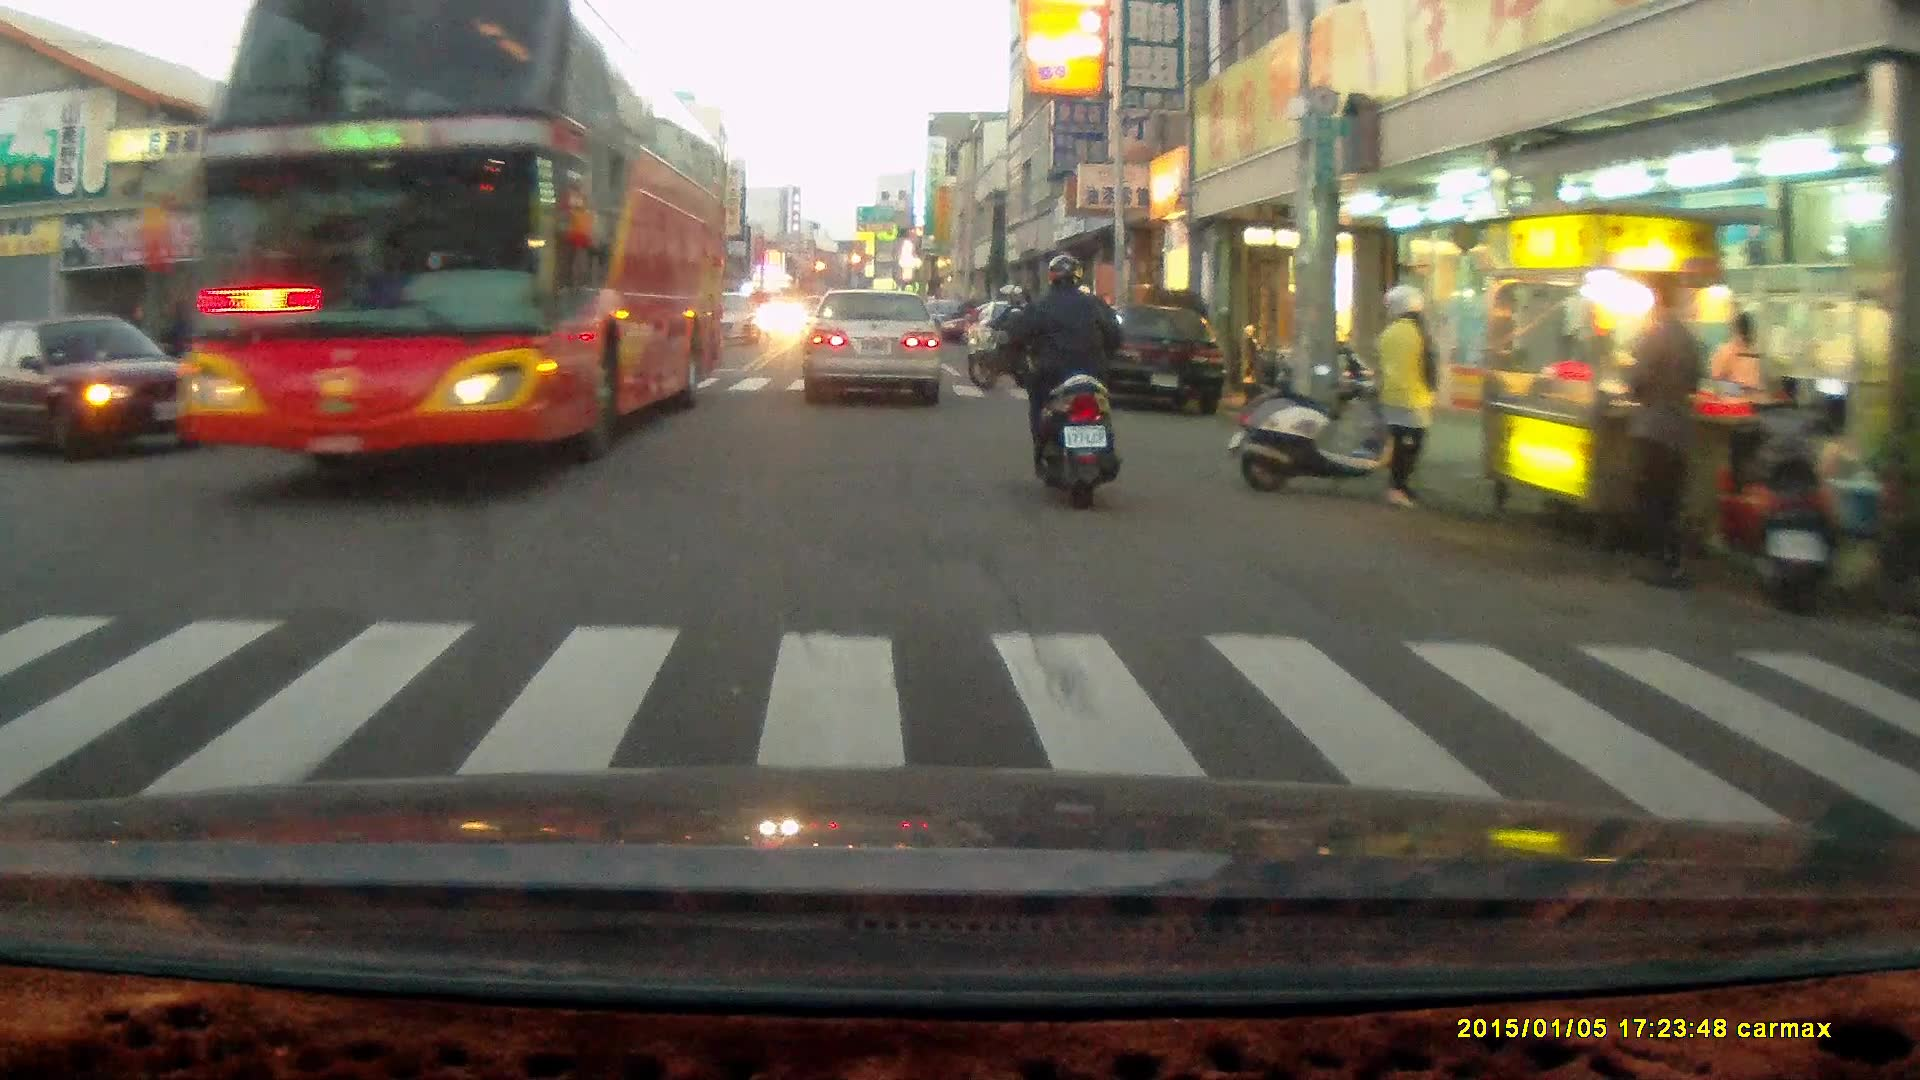pedestrian: (1615, 278, 1707, 592), (1370, 285, 1443, 514), (1714, 310, 1773, 487)
rider: (1003, 254, 1121, 510), (968, 282, 1038, 391)
vehicle: (176, 27, 723, 468), (1, 313, 212, 460), (1068, 301, 1233, 418), (801, 291, 945, 406)
